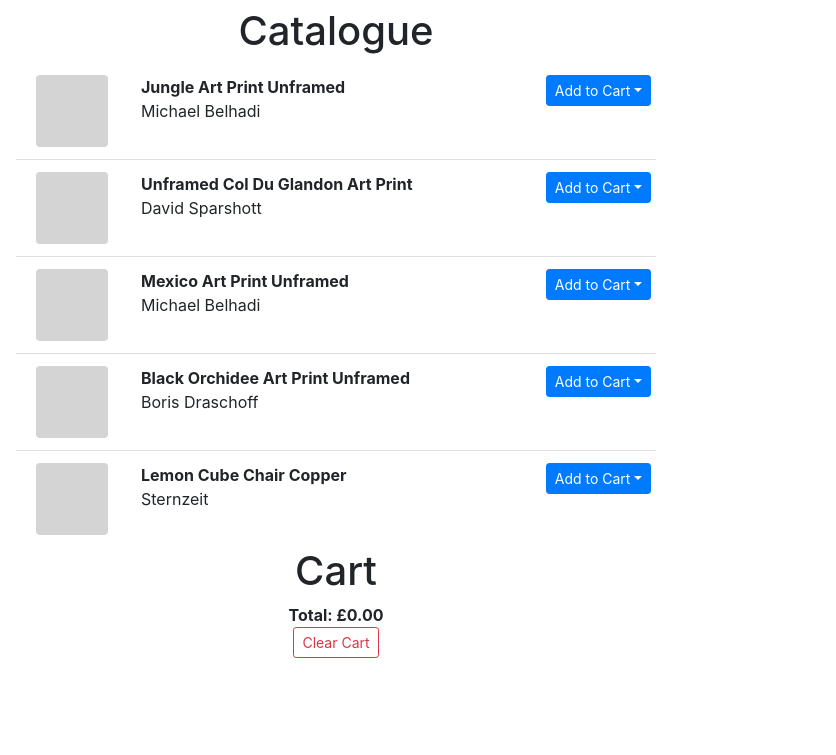
Test: e2e tests - as a user › when I decrease the quantity of an item in the cart › when the cart contains just 1 of the item variant › I see the cart does not contain the item variant, and that the cart price is updated
The width and height of the screenshot is (836, 755).
Click the button "Add to Cart" in the row of "Jungle Art Print Unframed" at (598, 90), box [546,75,651,106]
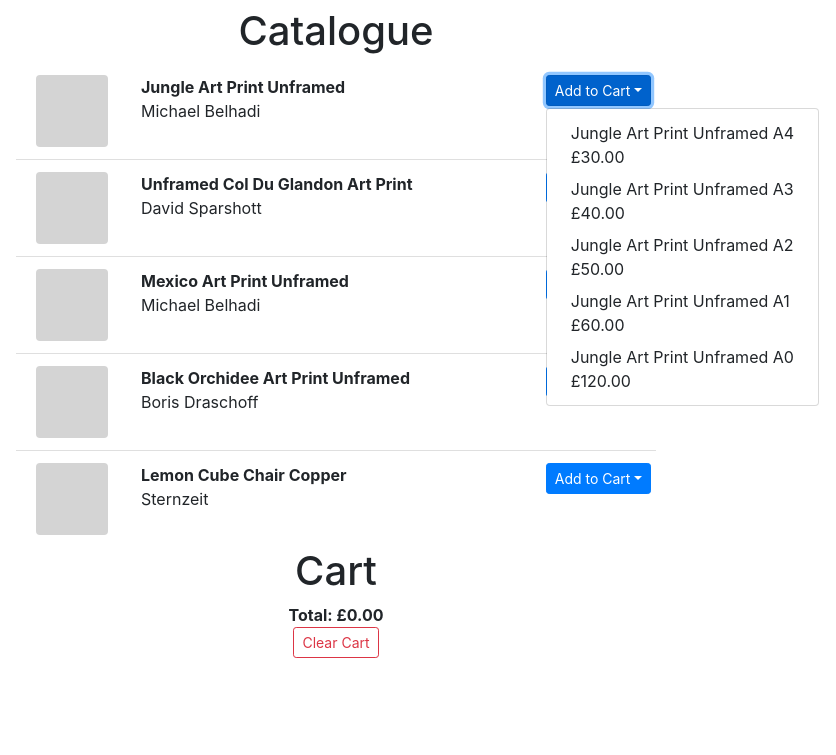
Click the text "Jungle Art Print Unframed A4" at (682, 133), box [571,121,794,145]
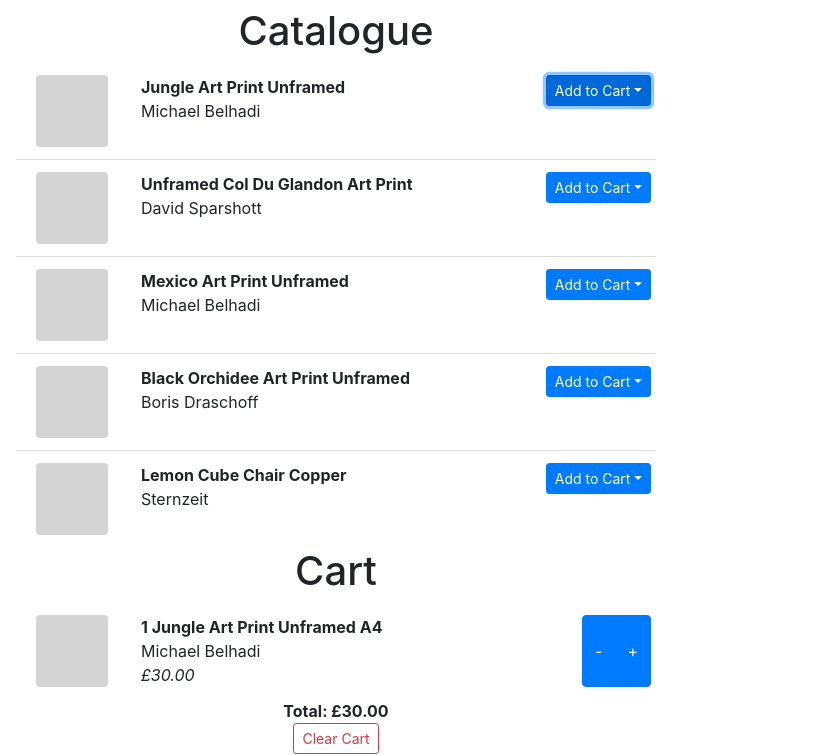
Click the button "-" at (599, 651), box [582,615,615,687]
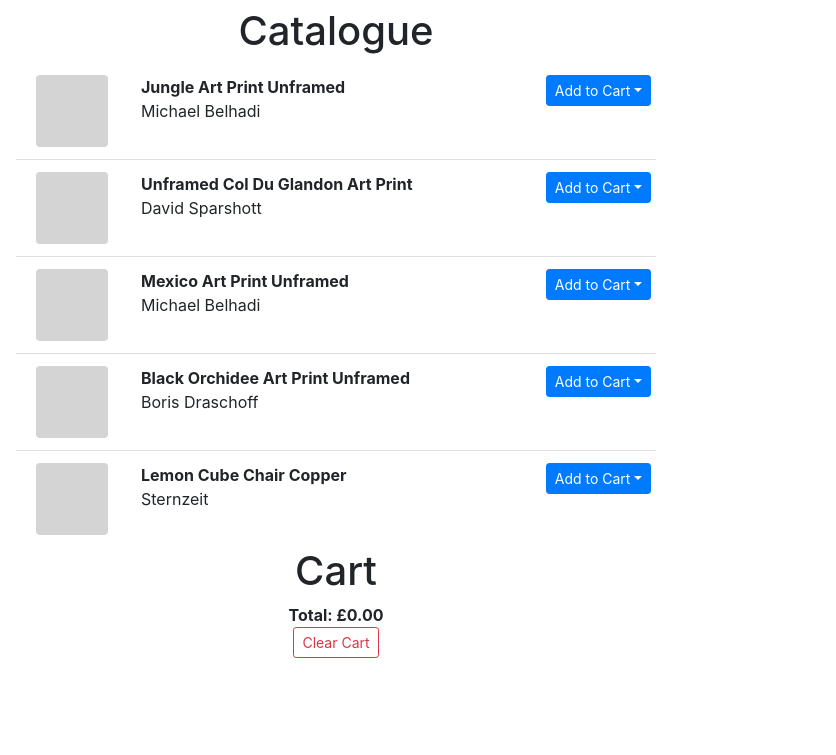
Check: the text "Jungle Art Print Unframed A4" is gone
Check: the text "Total: £0.00" is shown, box [288,603,383,627]
